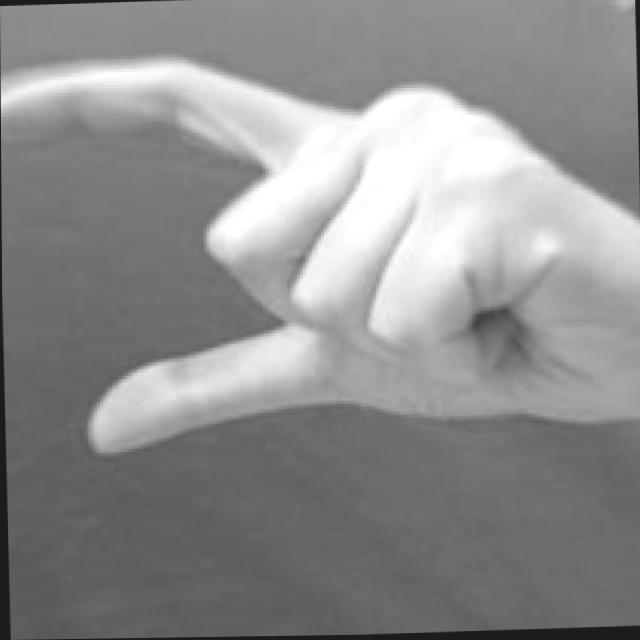C: (0, 42, 640, 461)
